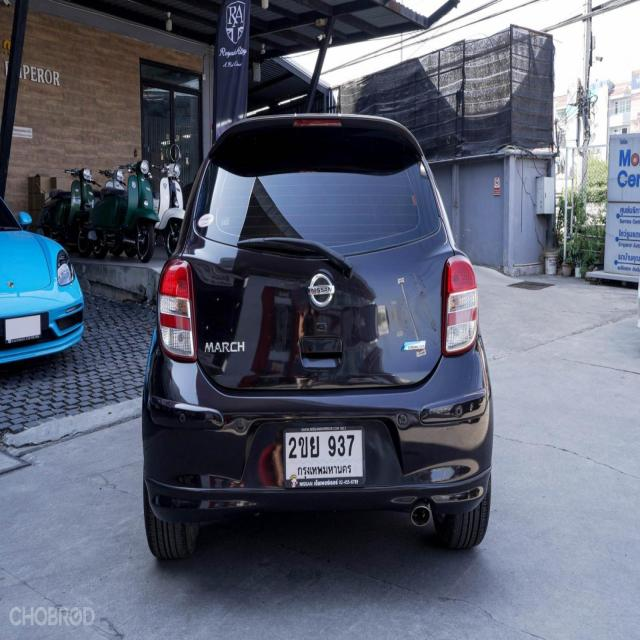license_plate: (283, 417, 368, 491)
